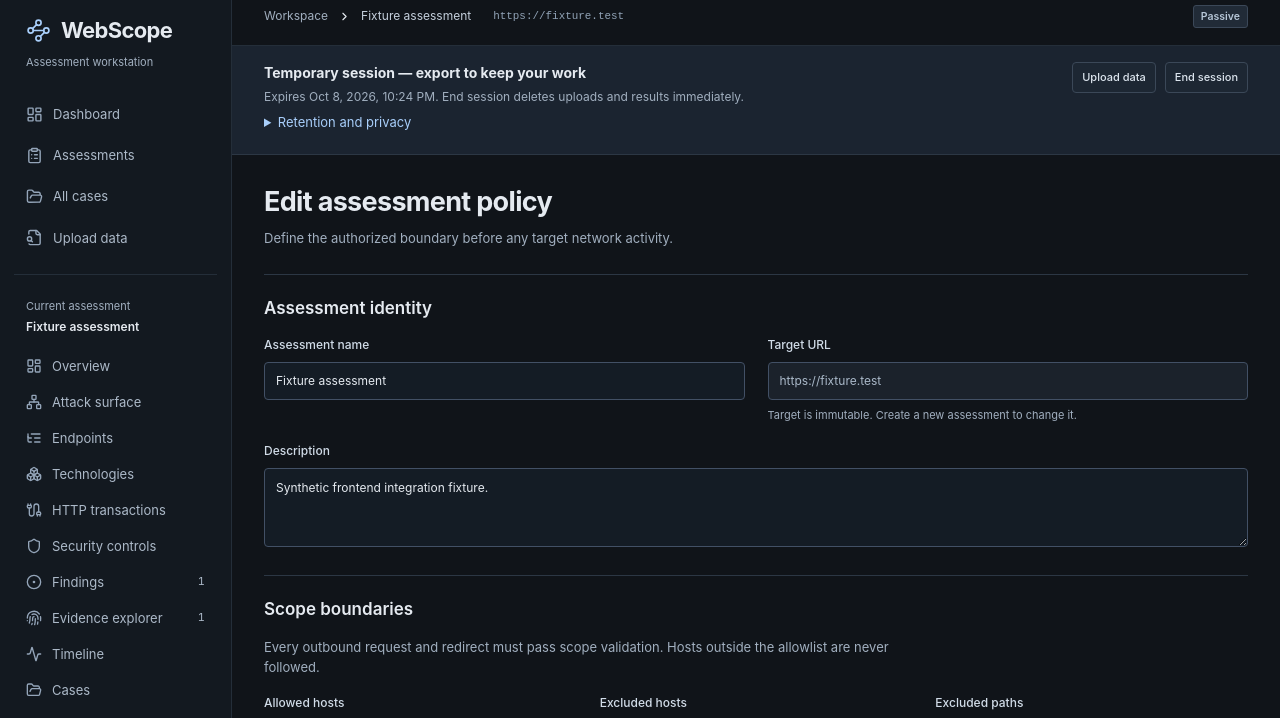
it: inventory, cases, configuration, and exports › enforced lifecycle and authorization contracts › sends a sparse metadata patch without unnecessarily invalidating validated scope
The image size is (1280, 718).
In the text box labelled "Description": (756, 508) [264, 468, 1248, 547], type " Additional review context."
(page scrolled)
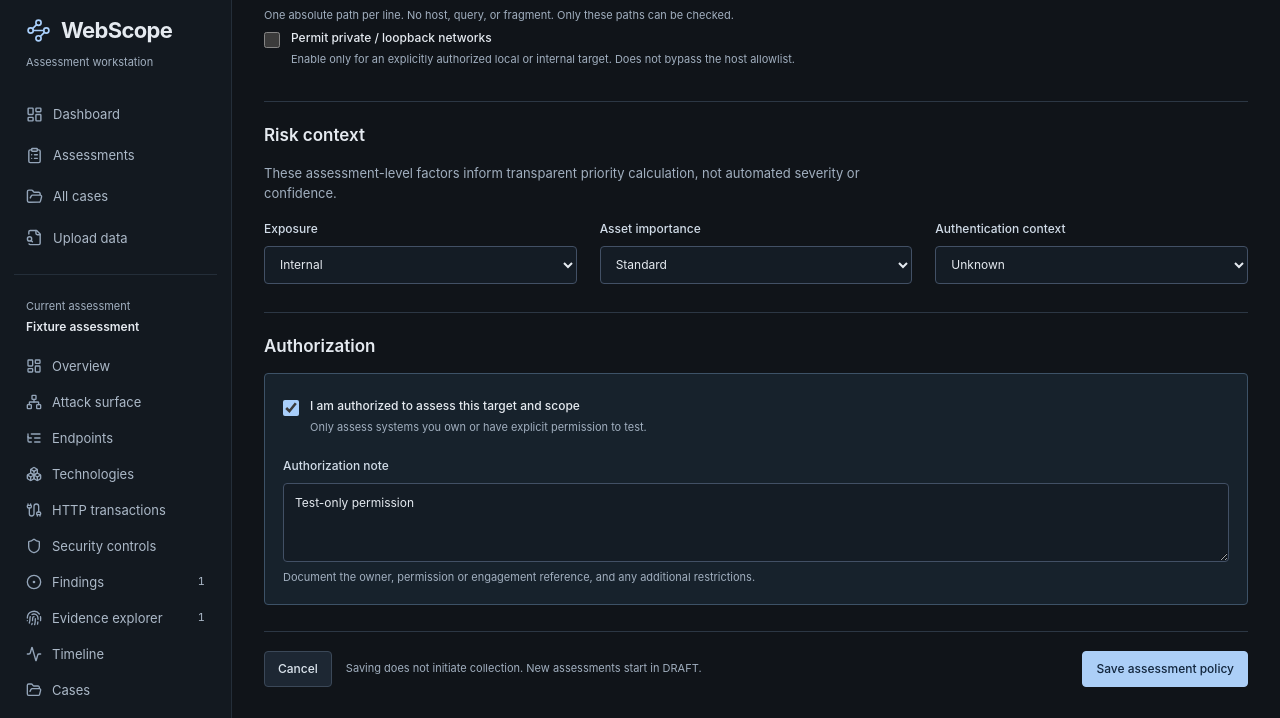
Click the button "Save assessment policy": (1165, 669) [1082, 651, 1248, 687]
(page scrolled)
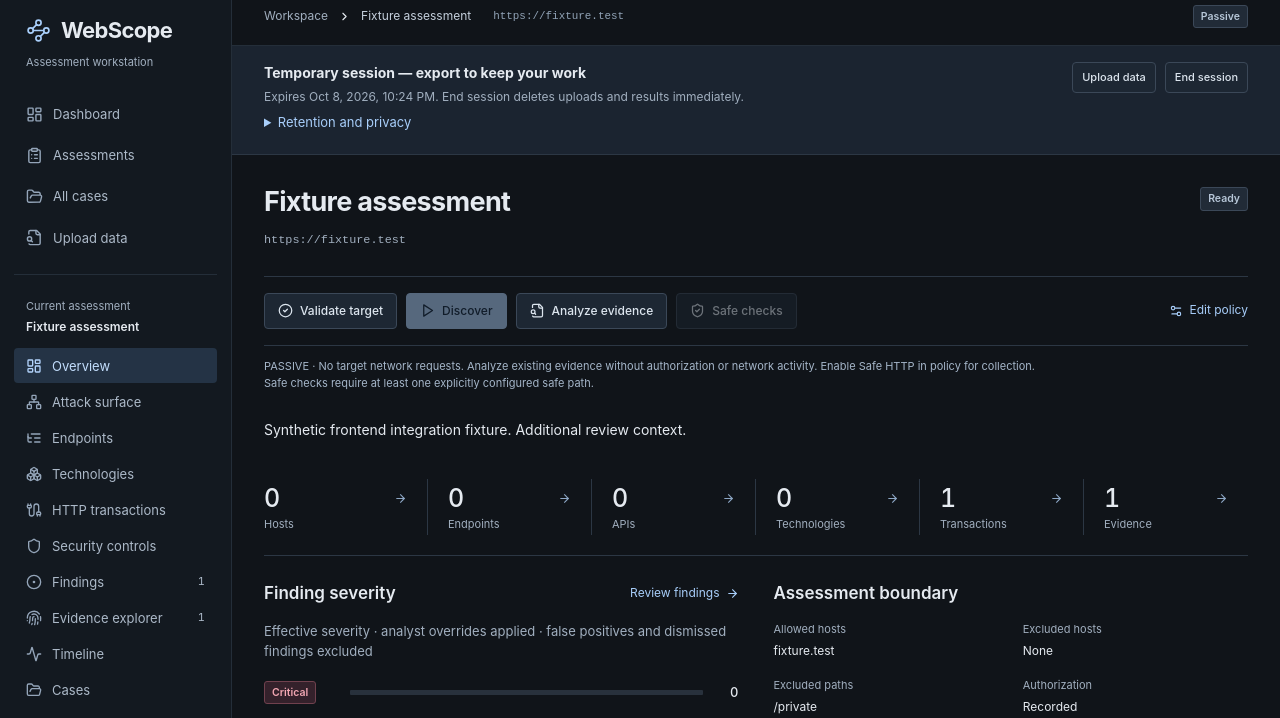
Expected: the heading "Fixture assessment" is shown, [264, 185, 510, 219]
Expected: the text with class "badge" reads "Ready", [1208, 192, 1240, 205]
